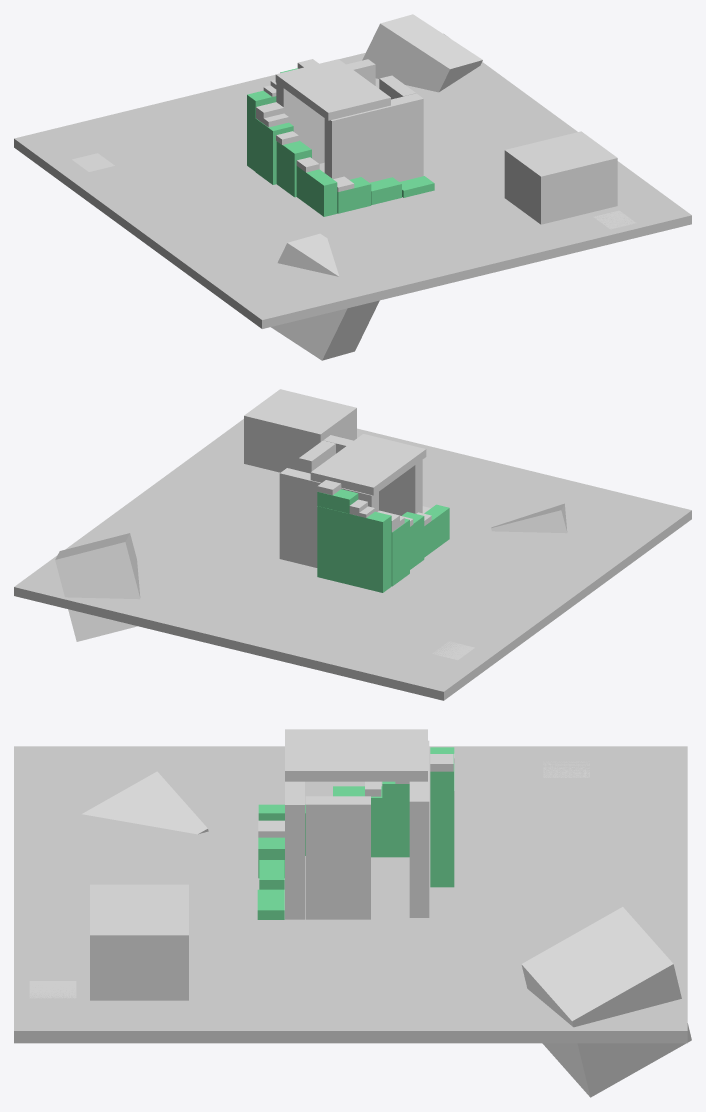
The model's file is Map.gltf.
3 views of the same model, one above another, from view 1: azimuth 30°, elevation 25°; view 2: azimuth 150°, elevation 25°; view 3: azimuth 270°, elevation 25° (orthographic). The views are drawn at different scales.
Parts seen in each view (by area): view 1: Cube, Cube.016, Cube.002, Cube.014, Cube.015, Cube.005, Cube.001, Cube.009, Cube.011, Cube.010, Cube.012, Cube.008 (+3 smaller); view 2: Cube, Cube.016, Cube.014, Cube.012, Cube.005, Cube.001, Cube.002, Cube.015, Cube.011, Cube.009, Cube.010, Cube.003 (+1 smaller); view 3: Cube, Cube.014, Cube.016, Cube.003, Cube.005, Cube.015, Cube.001, Cube.002, Cube.012, Cube.011, Cube.010, Cube.006 (+4 smaller).
Part boxes in pixels (x1,y1,x2,y2): Cube: [14, 33, 691, 328]; Cube.016: [504, 131, 617, 224]; Cube.002: [324, 93, 423, 182]; Cube.014: [362, 14, 482, 92]; Cube.015: [271, 233, 379, 360]; Cube.005: [275, 59, 390, 120]; Cube.001: [276, 59, 375, 163]; Cube.009: [296, 166, 337, 216]; Cube.011: [255, 118, 293, 184]; Cube.010: [276, 140, 311, 197]; Cube.012: [247, 90, 276, 171]; Cube.008: [337, 177, 371, 213]; Cube: [14, 419, 691, 700]; Cube.016: [244, 389, 356, 472]; Cube.014: [55, 533, 140, 641]; Cube.012: [317, 506, 391, 592]; Cube.005: [310, 434, 426, 495]; Cube.001: [279, 468, 378, 567]; Cube.002: [323, 435, 422, 515]; Cube.015: [491, 503, 567, 533]; Cube.011: [391, 518, 409, 586]; Cube.009: [424, 504, 449, 557]; Cube.010: [402, 512, 424, 569]; Cube.003: [299, 440, 335, 473]; Cube: [14, 746, 687, 1043]; Cube.014: [521, 907, 691, 1097]; Cube.016: [90, 884, 188, 1000]; Cube.003: [305, 796, 370, 919]; Cube.005: [285, 729, 427, 781]; Cube.015: [82, 771, 208, 834]; Cube.001: [409, 740, 429, 917]; Cube.002: [285, 781, 304, 919]; Cube.012: [430, 747, 454, 887]; Cube.011: [382, 781, 409, 857]; Cube.010: [333, 786, 382, 857]; Cube.006: [257, 889, 284, 919].
Bounding box in the file's own units: 100 × 41.69 × 101.
